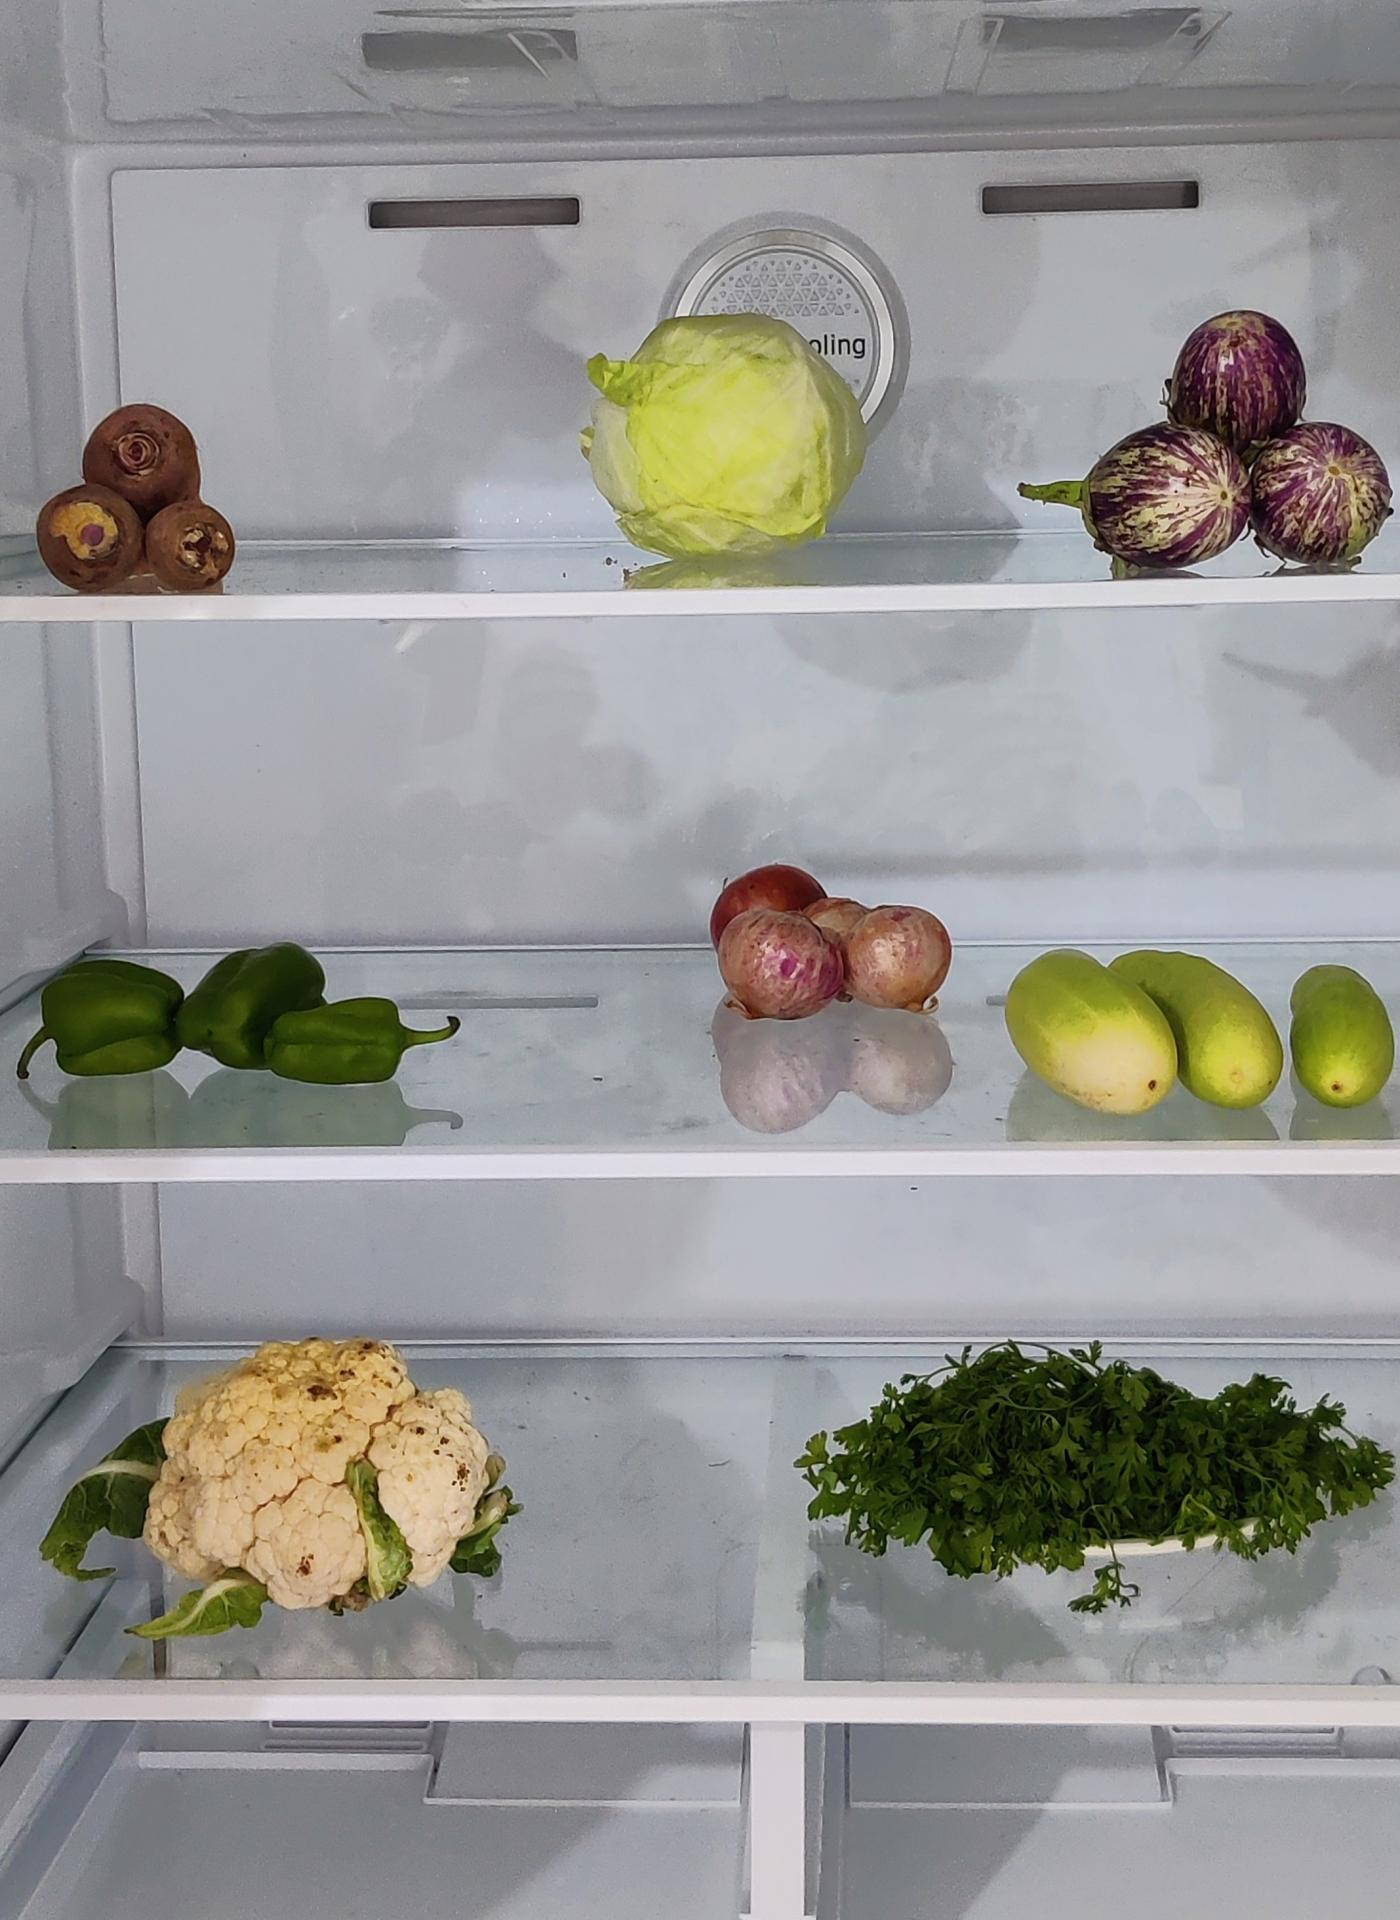brinjal: (1071, 297, 1390, 575)
cabbage: (586, 307, 872, 553)
capsicum: (27, 947, 446, 1087)
carrots: (34, 395, 239, 586)
cauliflower: (145, 1337, 520, 1608)
coriander: (811, 1349, 1400, 1577)
cucumber: (1011, 939, 1400, 1106)
onion: (707, 863, 954, 1030)
